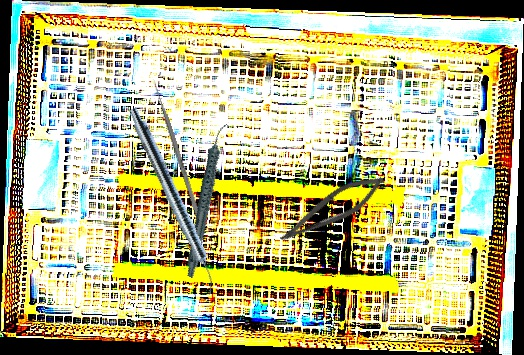Handpiece: (122, 105, 225, 296), (156, 121, 258, 279)
Micro Scissor: (274, 164, 390, 256)
Pusher: (151, 77, 202, 222)
